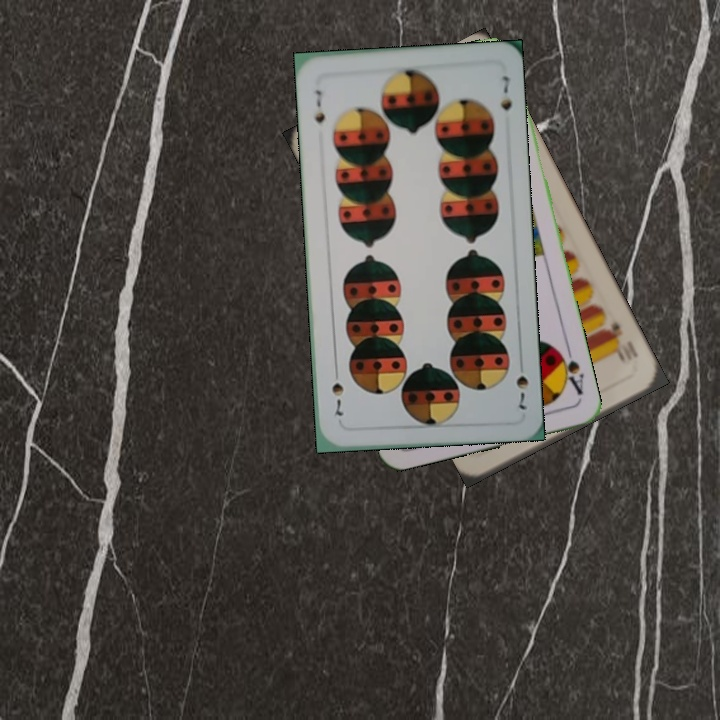E10: (601, 317, 641, 363)
S7: (512, 355, 531, 413), (310, 86, 327, 126)
SA: (552, 342, 587, 398)
